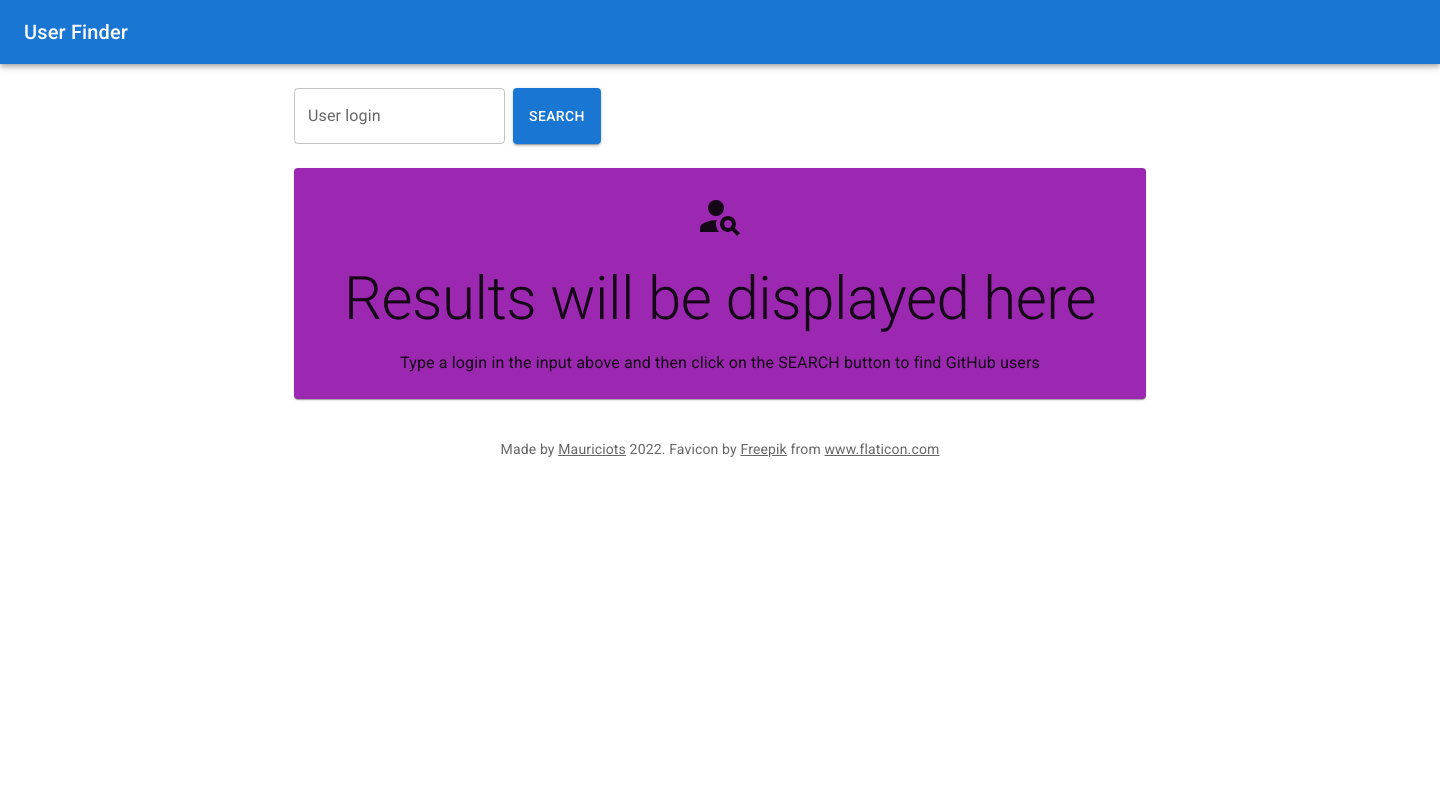
App › should display second page when clicking on next page button
Type "user" into the field labelled "User login".
click(400, 116); type("user")  # box [294, 88, 505, 144]
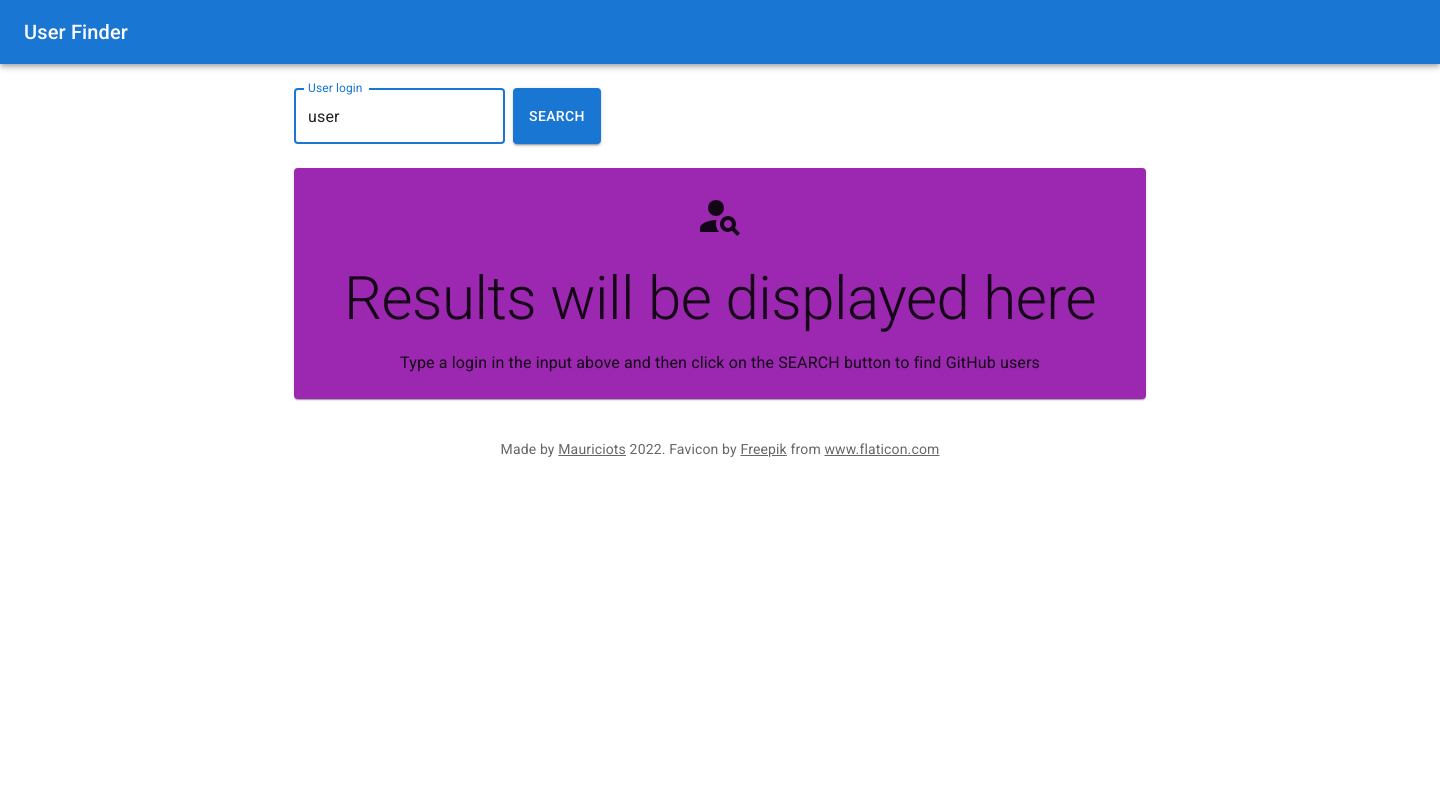
Click the button "Search".
click(557, 116)  # box [513, 88, 601, 144]
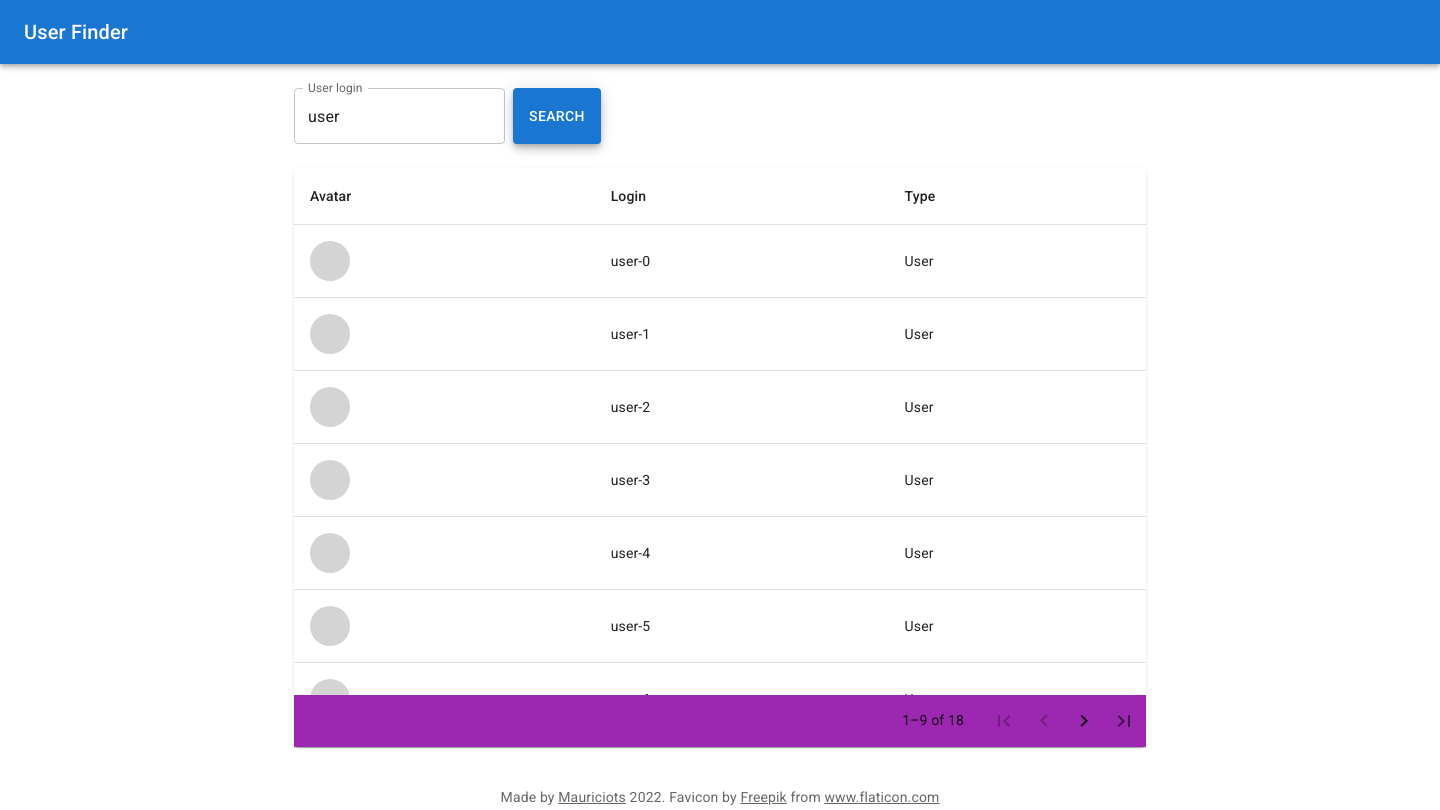
Click the button named "Go to next page".
click(1084, 720)  # box [1064, 700, 1104, 740]
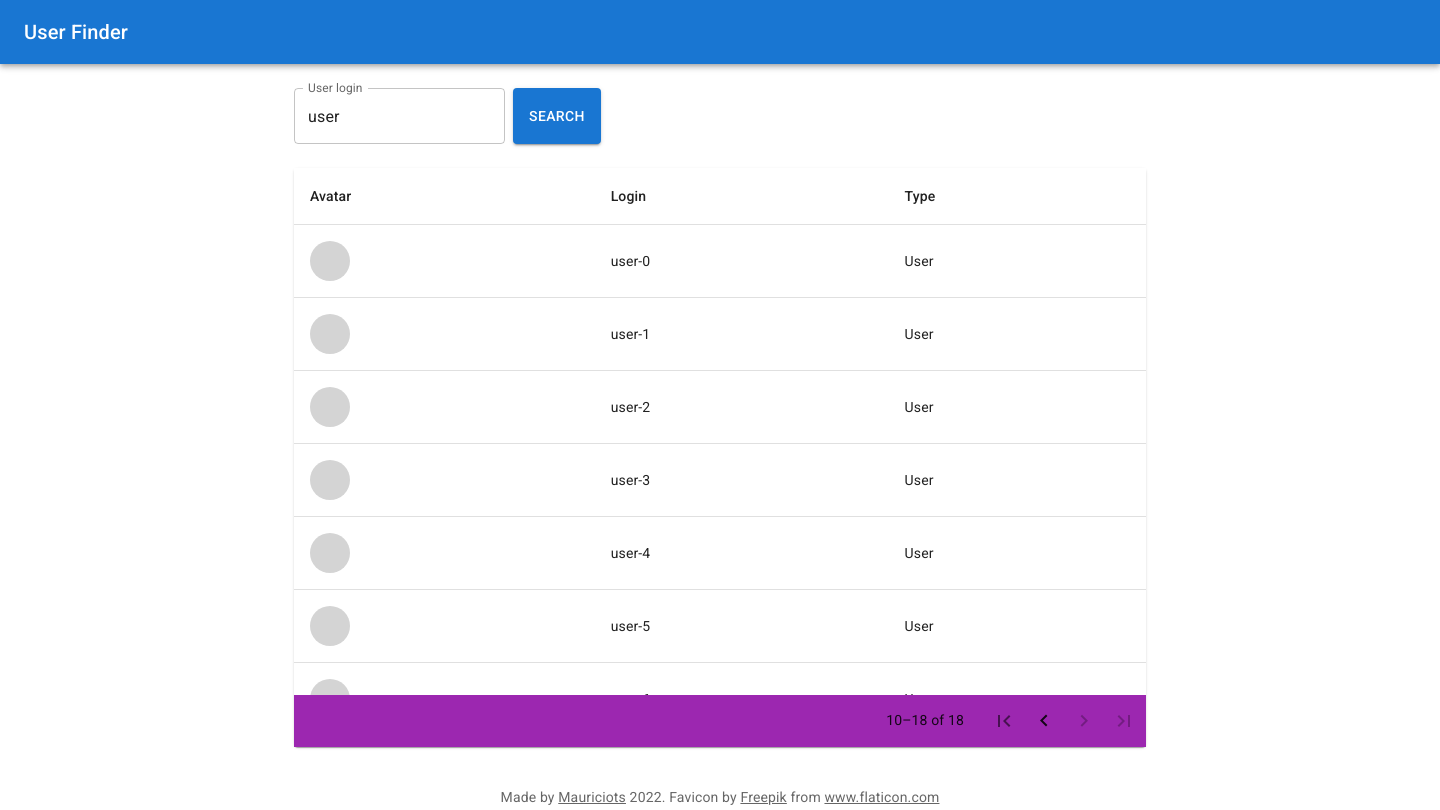
Check: the text "10–18 of 18" is shown, box [886, 710, 964, 730]
